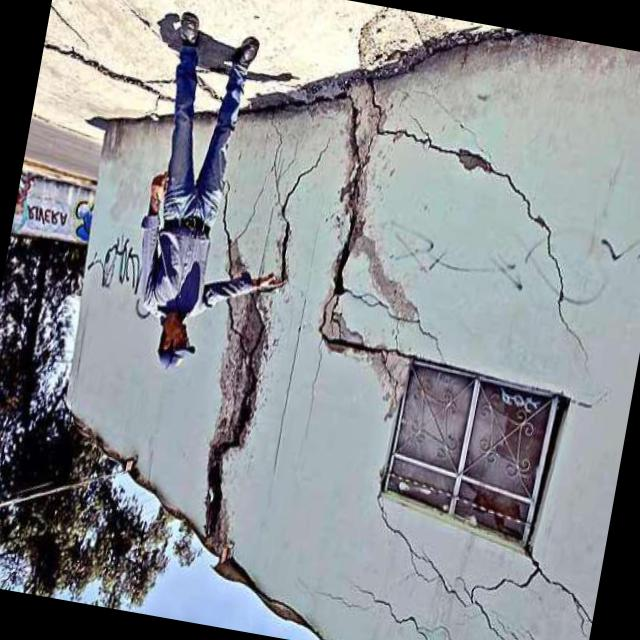crack: (315, 80, 415, 419), (203, 295, 269, 552), (464, 546, 587, 623), (513, 190, 569, 334), (250, 95, 342, 118), (450, 150, 503, 175), (279, 175, 306, 216), (280, 215, 292, 283)
